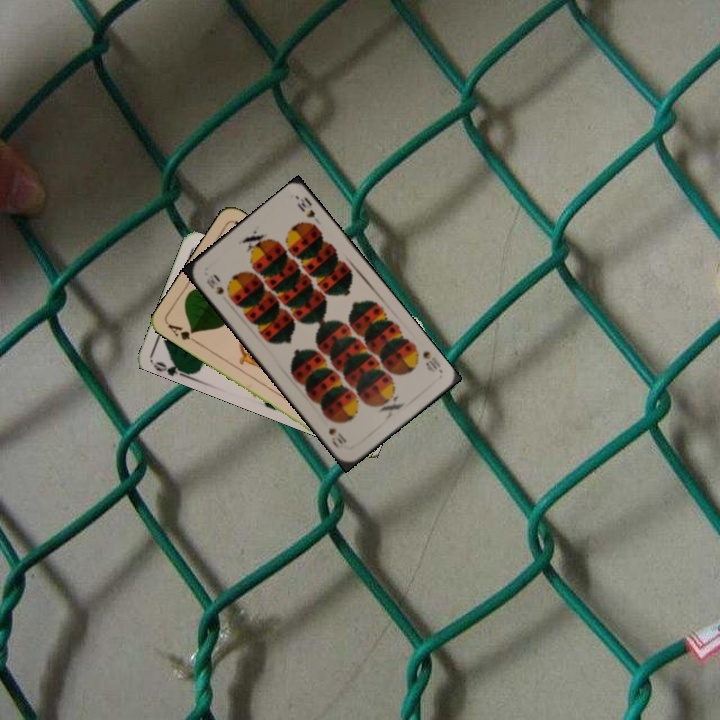GA: (164, 320, 201, 346)
GO: (150, 354, 190, 380)
S10: (202, 271, 234, 301), (418, 346, 445, 375)
